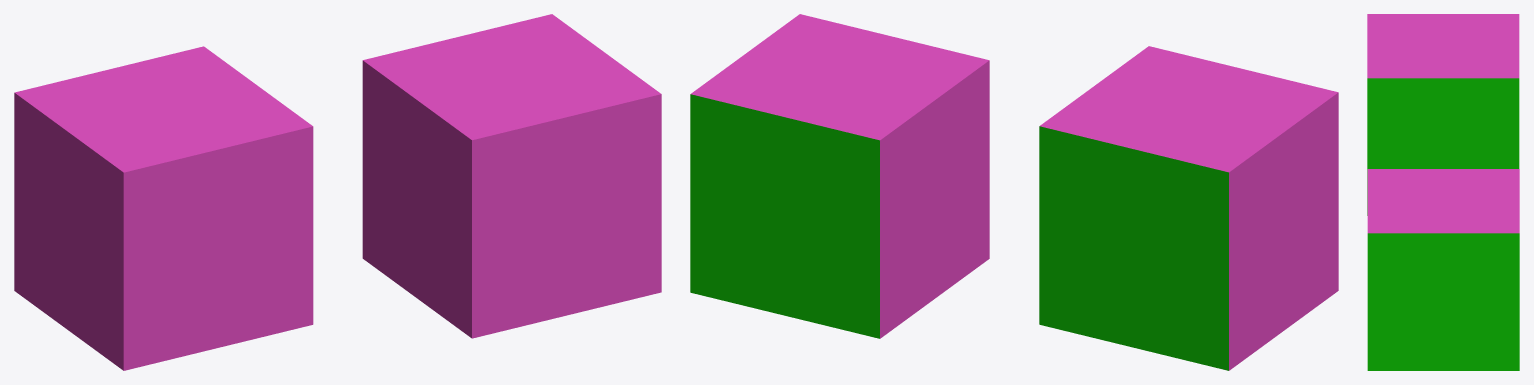
Rendered from materialTest.glb.
3 renders of one model, left to right at view 1: azimuth 30°, elevation 25°; view 2: azimuth 150°, elevation 25°; view 3: azimuth 270°, elevation 25°, orthographic. The views are drawn at different scales.
Parts seen in each view (by area): view 1: Cube; view 2: Cube; view 3: Cube.
Part boxes in pixels (<box>): Cube: <box>14,14,661,370</box>; Cube: <box>690,14,1338,370</box>; Cube: <box>1367,14,1519,370</box>.
Bounding box in the file's own units: 5.68 × 2.53 × 2.
